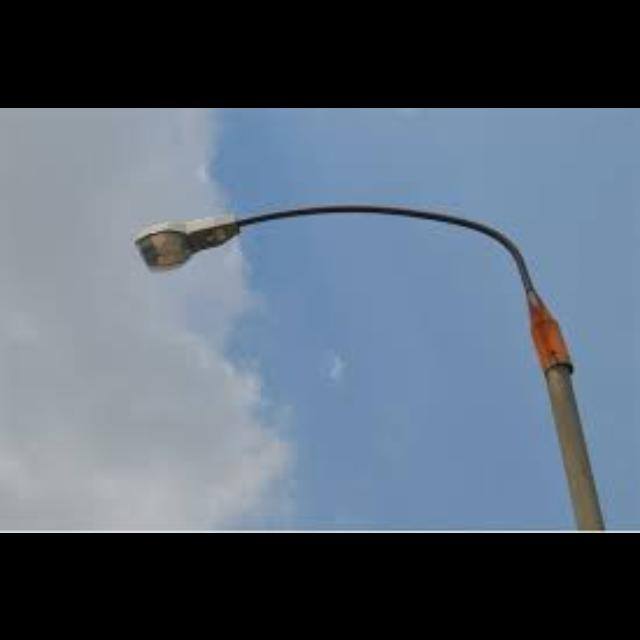Street-Lamp: (126, 190, 634, 532)
